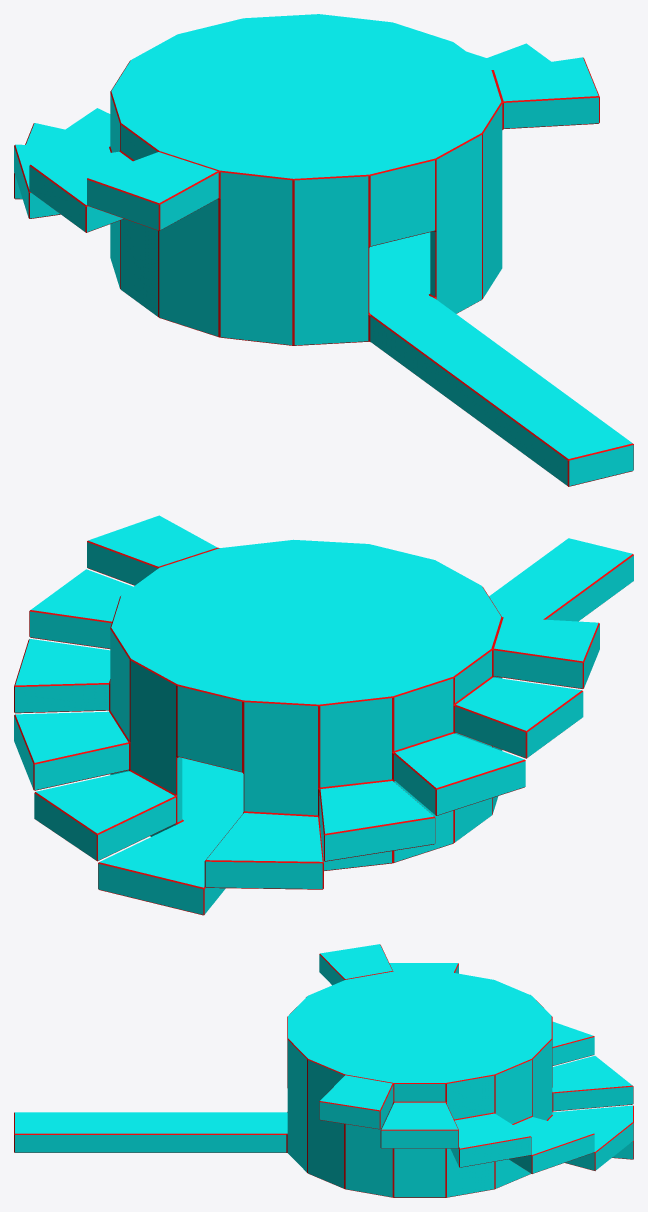
File: L13_Spawn_Platform.fbx
3 views of the same model, one above another, from view 1: azimuth 30°, elevation 25°; view 2: azimuth 150°, elevation 25°; view 3: azimuth 270°, elevation 25° (orthographic). The views are drawn at different scales.
Parts seen in each view (by area): view 1: L13_Spawn_Platform; view 2: L13_Spawn_Platform; view 3: L13_Spawn_Platform.
Boxes of the visible parts, x1,y1,x2,y2 form: L13_Spawn_Platform: (14, 14, 633, 486); L13_Spawn_Platform: (14, 515, 633, 915); L13_Spawn_Platform: (14, 944, 633, 1197).
Size of the model in its own units: 2339 by 750 by 3666.
